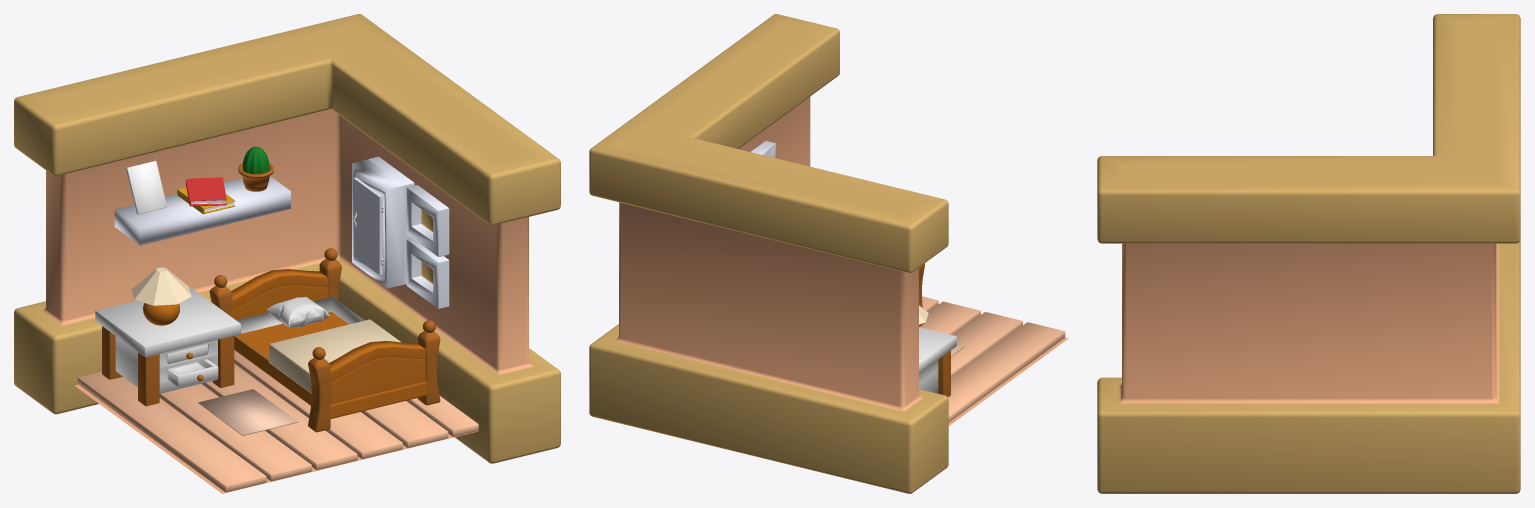
File: room.glb
3 renders of one model, left to right at view 1: azimuth 30°, elevation 25°; view 2: azimuth 150°, elevation 25°; view 3: azimuth 270°, elevation 25°, orthographic. The views are drawn at different scales.
Parts seen in each view (by area): view 1: Cube, Plane.001, Cube.001, Plane.008, Plane.003, Cube.002, Plane.004, Plane.002, Plane.006, Plane.009, Plane.011, Cube.005 (+7 smaller); view 2: Cube, Plane.001, Plane.008, Plane.009; view 3: Cube.
Part boxes in pixels (left/top/right/bottom): Cube: left=14, top=14, right=560, bottom=463; Plane.001: left=77, top=350, right=478, bottom=492; Cube.001: left=352, top=156, right=449, bottom=308; Plane.008: left=95, top=287, right=240, bottom=393; Plane.003: left=231, top=269, right=425, bottom=404; Cube.002: left=114, top=176, right=290, bottom=245; Plane.004: left=209, top=248, right=440, bottom=432; Plane.002: left=234, top=311, right=426, bottom=418; Plane.006: left=268, top=319, right=400, bottom=393; Plane.009: left=102, top=326, right=234, bottom=406; Plane.011: left=198, top=389, right=297, bottom=435; Cube.005: left=353, top=177, right=382, bottom=274; Cube: left=589, top=14, right=948, bottom=493; Plane.001: left=919, top=296, right=1065, bottom=422; Plane.008: left=919, top=327, right=956, bottom=393; Plane.009: left=937, top=350, right=950, bottom=397; Cube: left=1097, top=14, right=1520, bottom=493.
Bounding box in the file's own units: 2.52 × 2 × 2.52.
